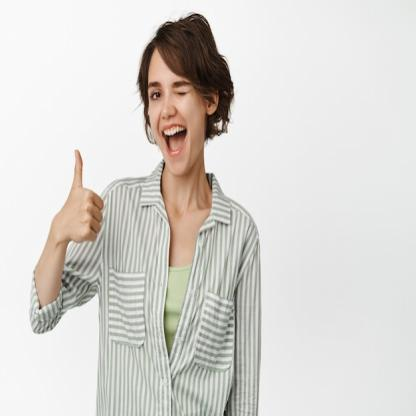thumb_up: (53, 146, 106, 244)
